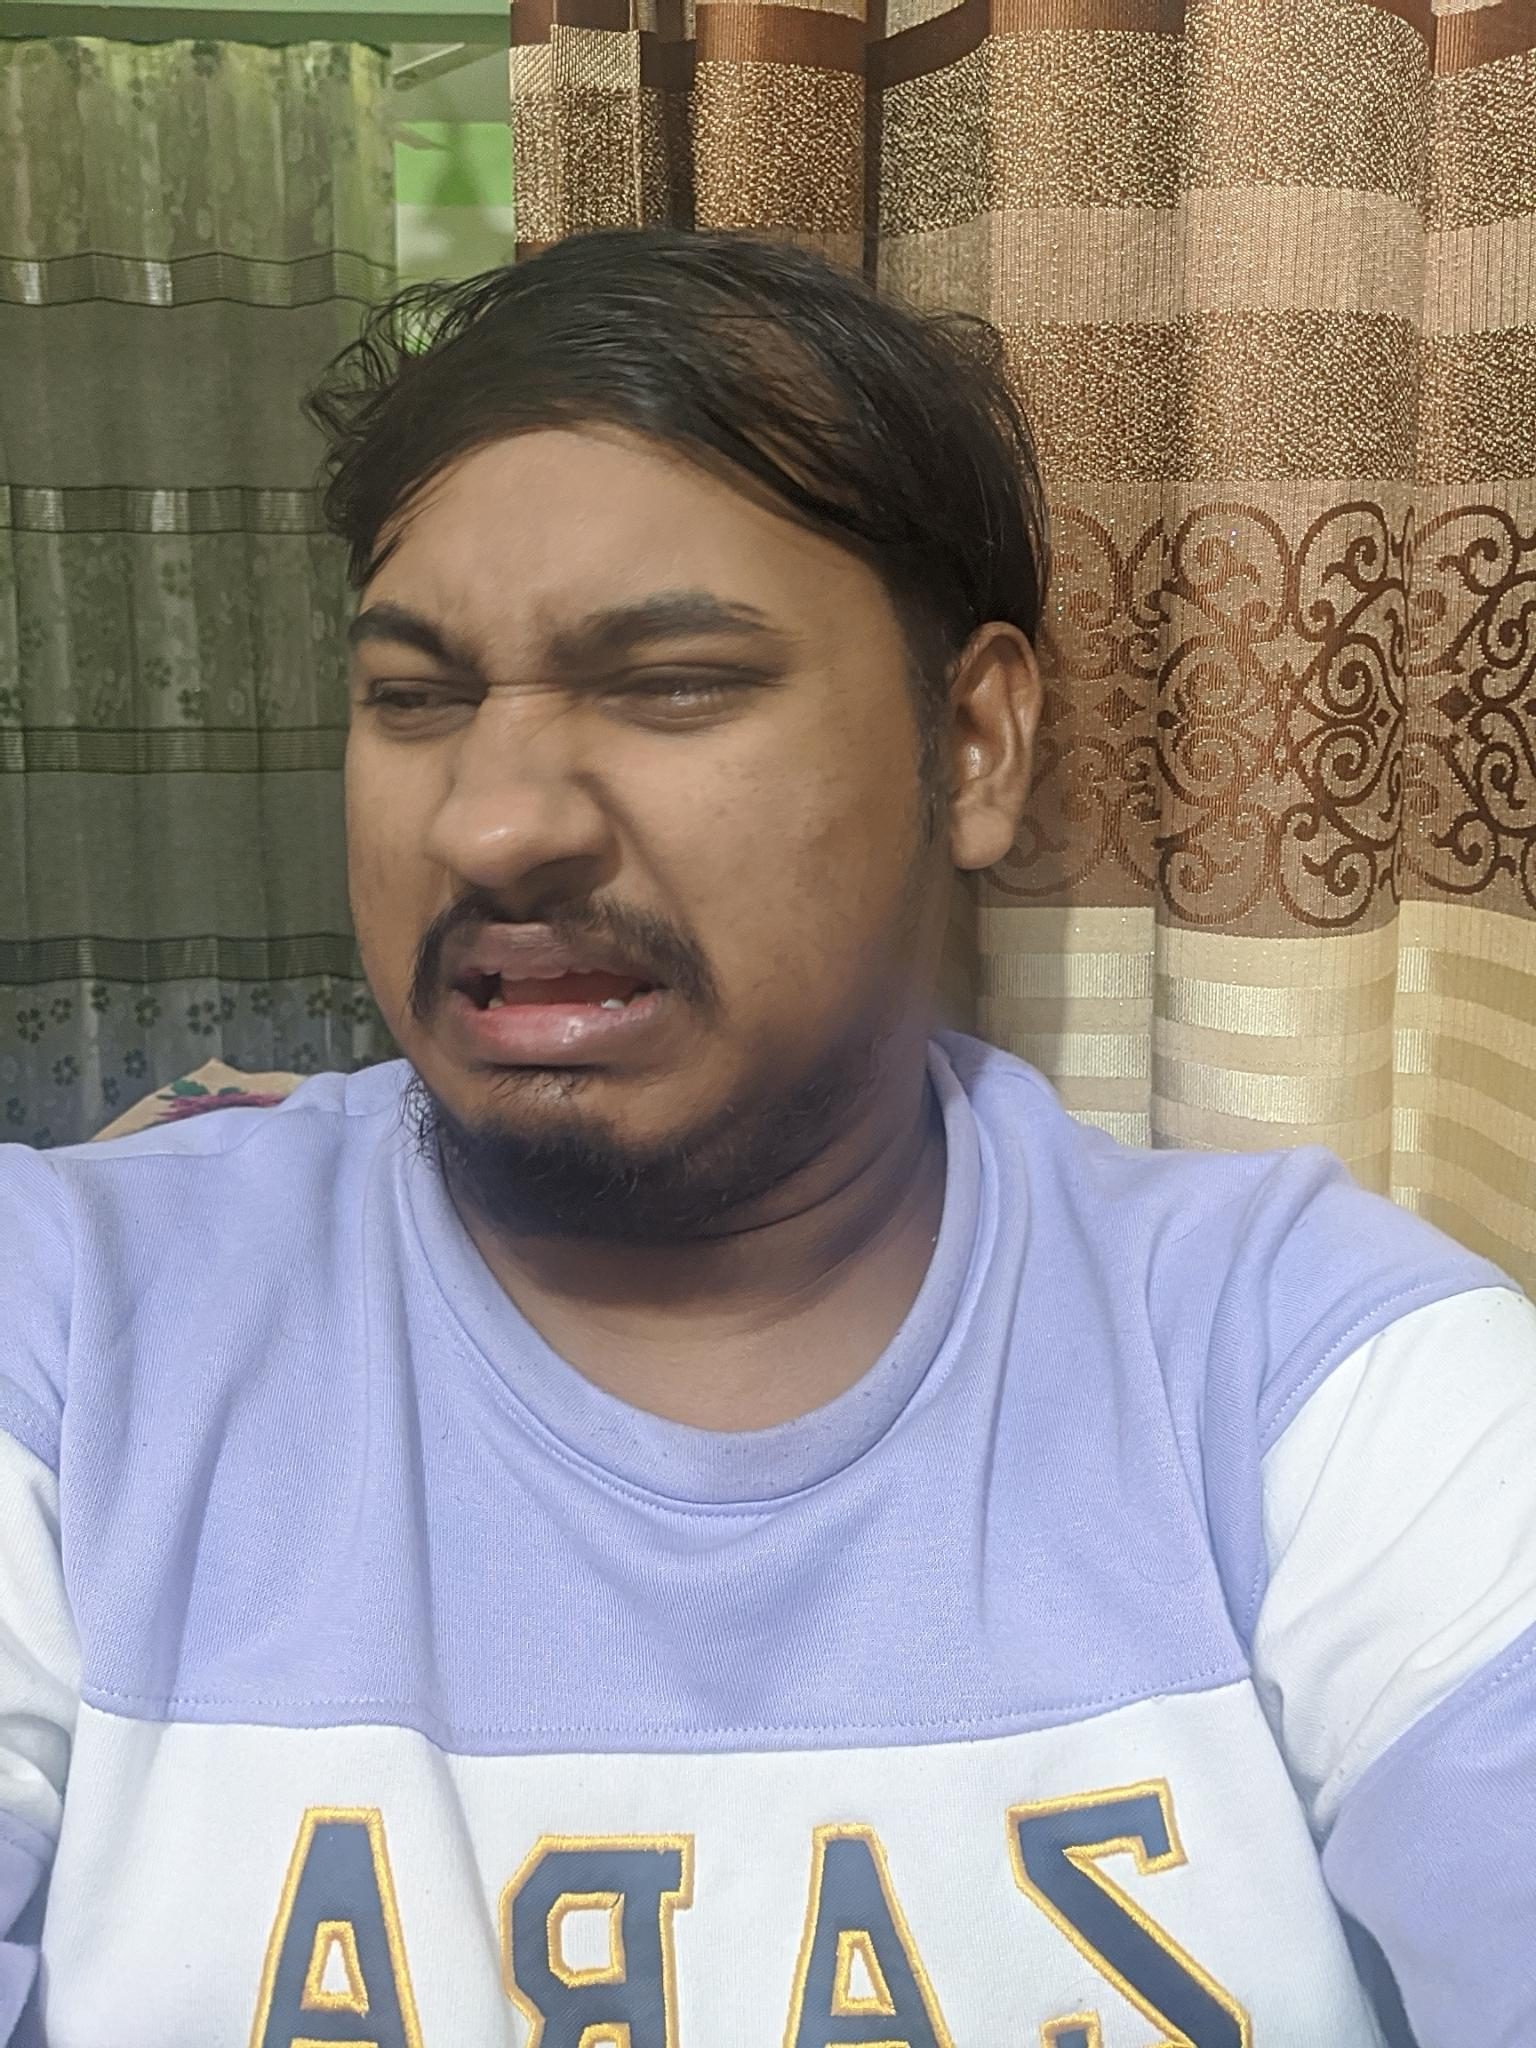Disgust: (303, 526, 895, 1177)
